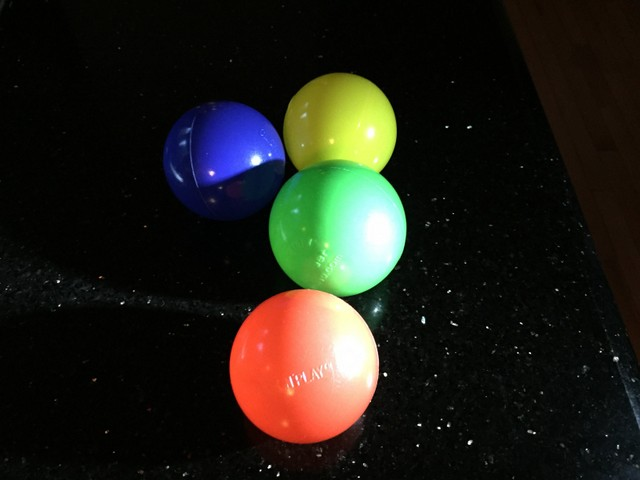Ball: (266, 160, 407, 291)
